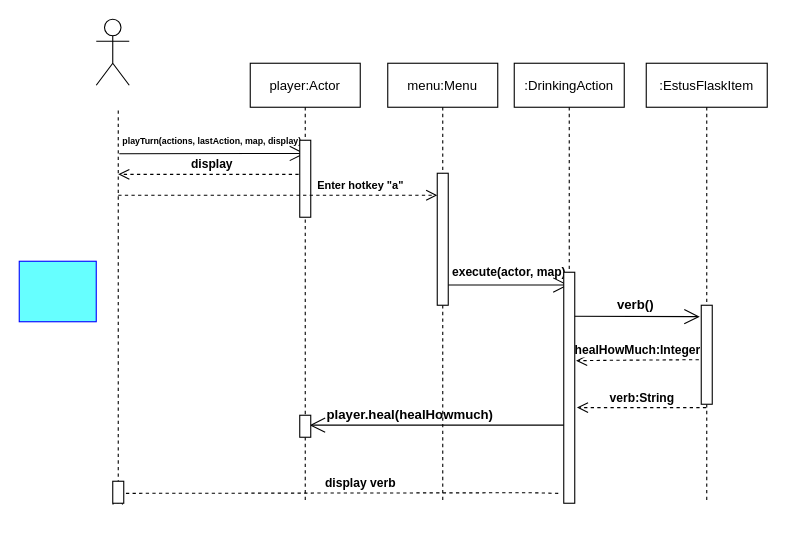
This 787x534 diagram has some shape labels left out. The shapes that lost their labels are listed below. From the top down, each one's centre as x and y in pixels, then its label:
point (112, 51): Actor
point (57, 291): Healing Player
